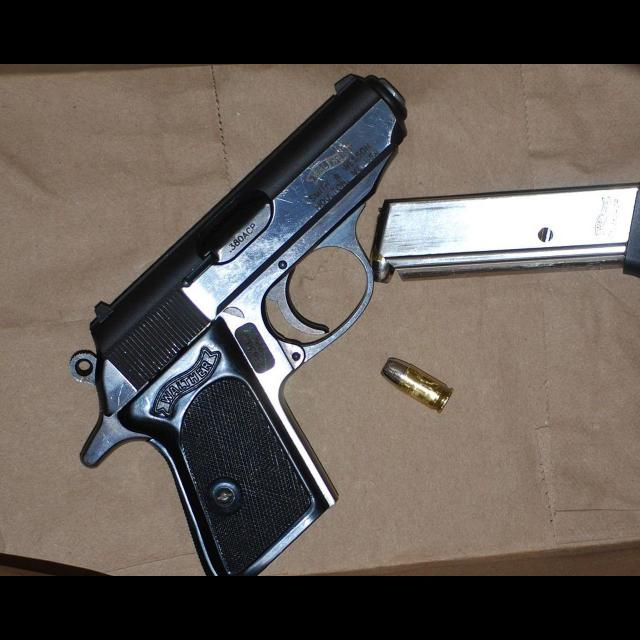handgun: (64, 72, 413, 576)
